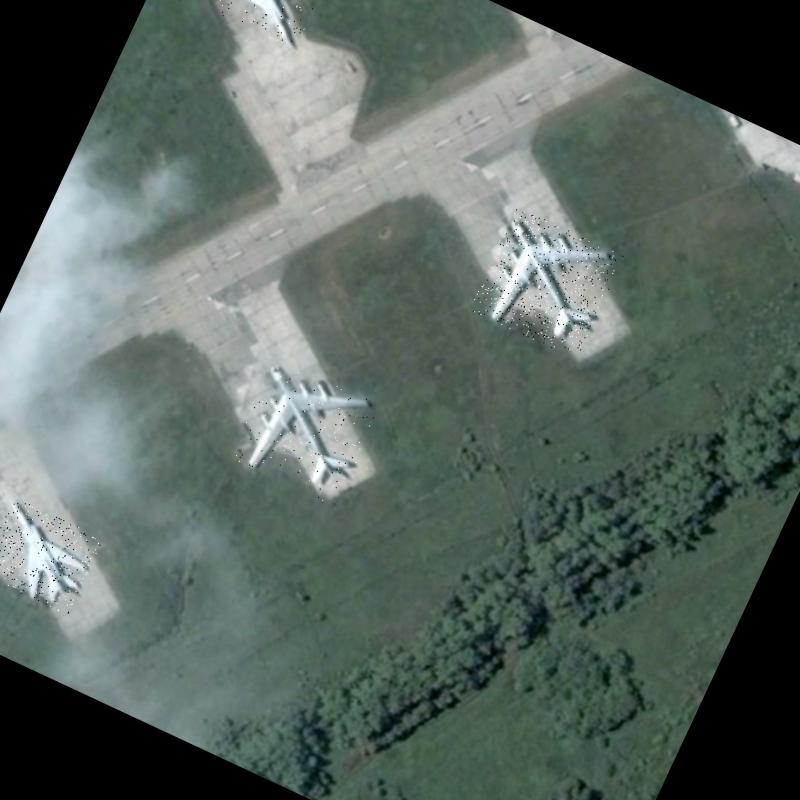A12: (0, 496, 103, 615), (204, 0, 332, 50)
A17: (468, 206, 624, 360), (228, 354, 383, 506)
